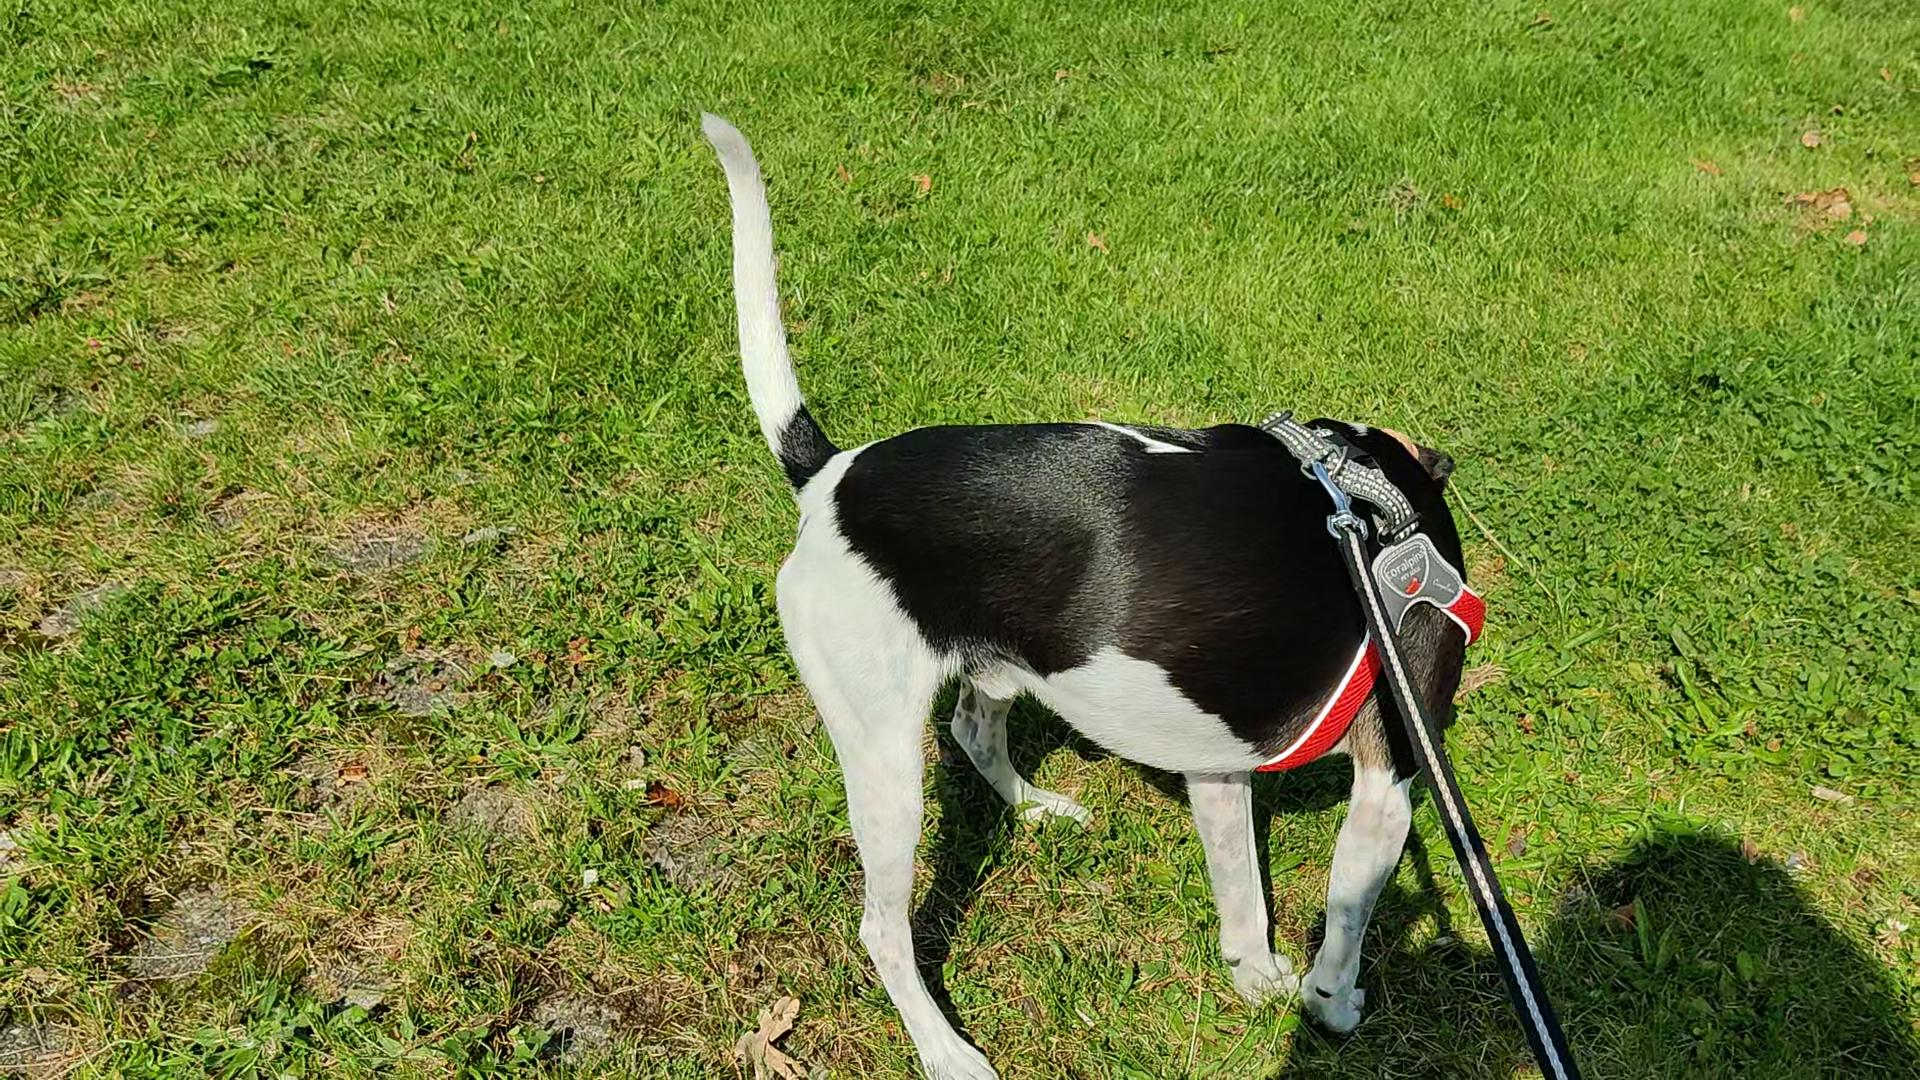Dog: (676, 87, 1498, 1079)
